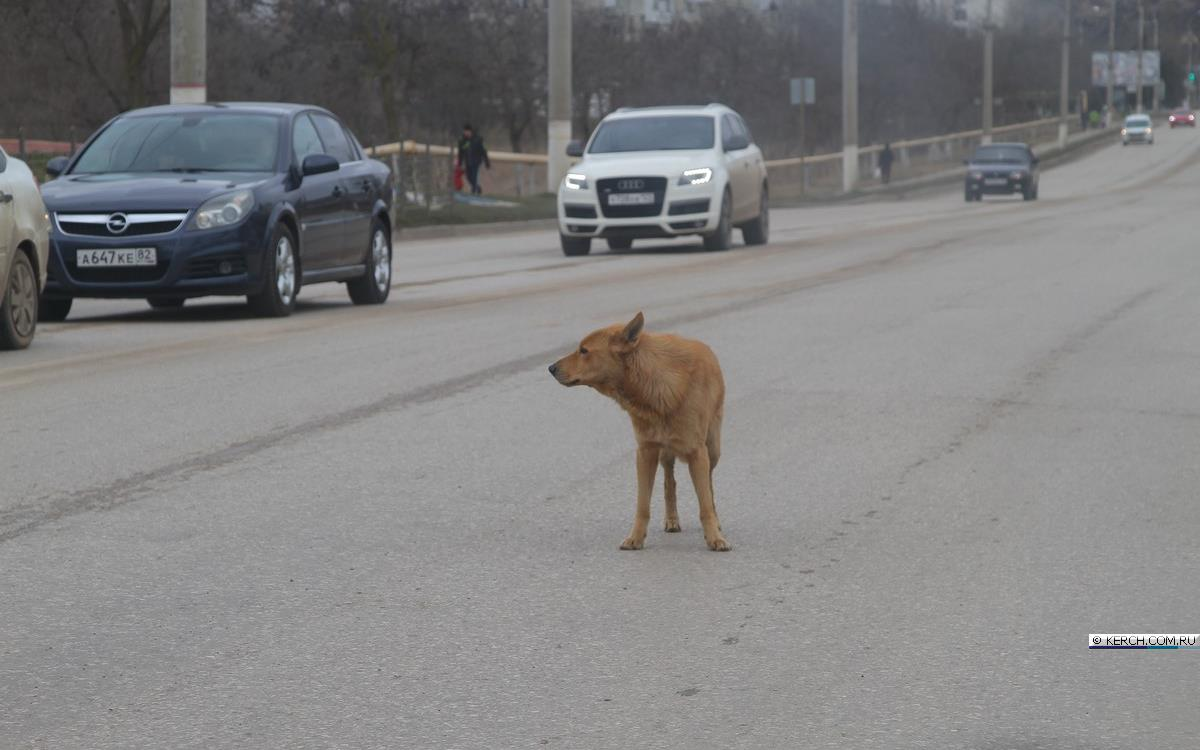kopek: (514, 298, 758, 577)
otomobil: (31, 63, 405, 340), (544, 77, 792, 300), (962, 138, 1044, 201)
